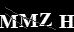H: (58, 14, 74, 28)
M: (17, 13, 39, 28), (1, 14, 18, 28)
Z: (38, 12, 53, 27)
